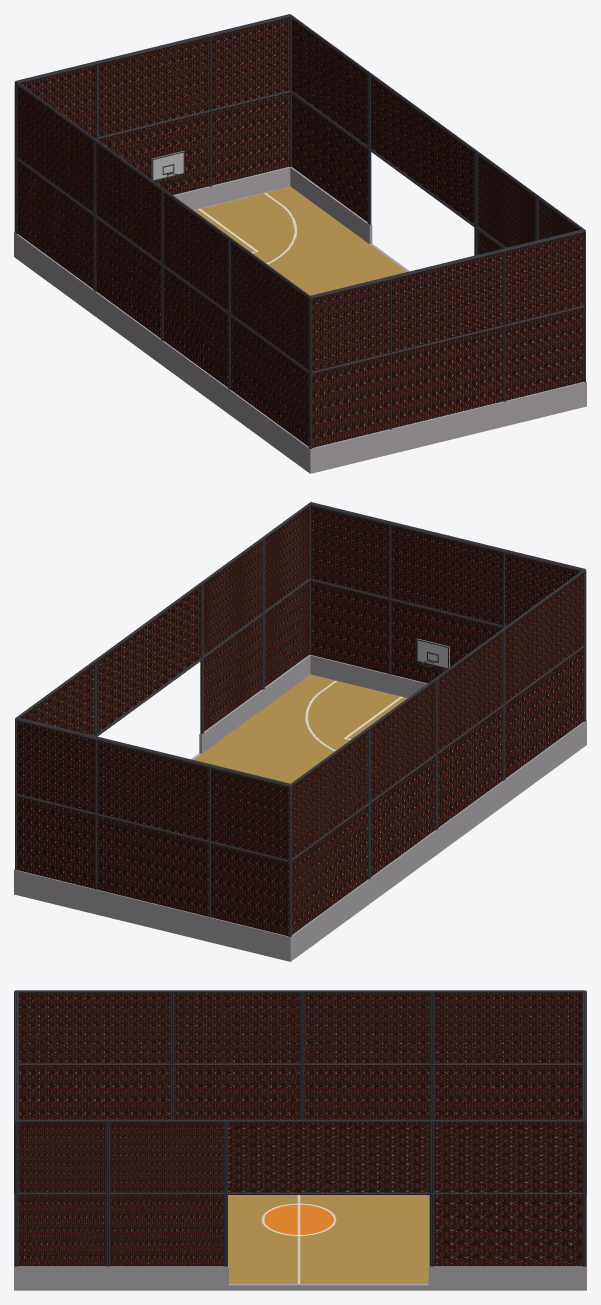
File: Basketbol.fbx
3 renders of one model, top to bottom at view 1: azimuth 30°, elevation 25°; view 2: azimuth 150°, elevation 25°; view 3: azimuth 270°, elevation 25°, orthographic. The views are drawn at different scales.
Parts seen in each view (by area): view 1: Basketbol; view 2: Basketbol; view 3: Basketbol.
Boxes of the visible parts, bbox=[...] form: Basketbol: bbox=[14, 14, 586, 473]; Basketbol: bbox=[14, 502, 586, 961]; Basketbol: bbox=[14, 990, 586, 1290].
Size of the model in its own units: 1530 by 931 by 2840.
